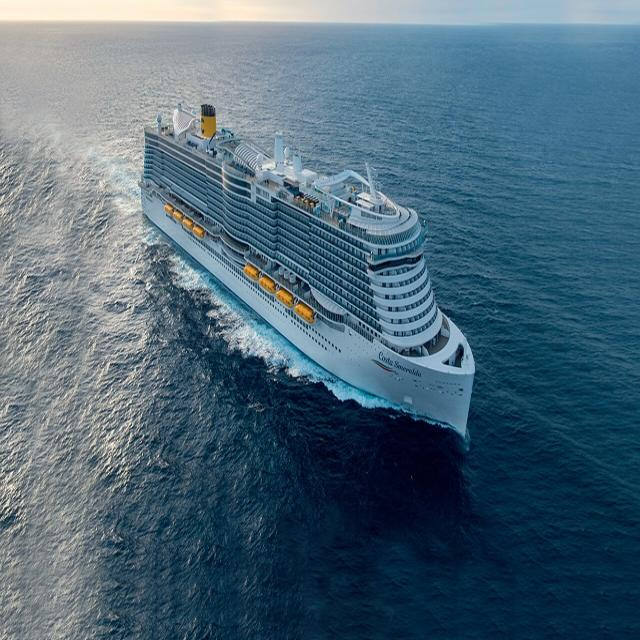passenger ship: (137, 91, 470, 444)
